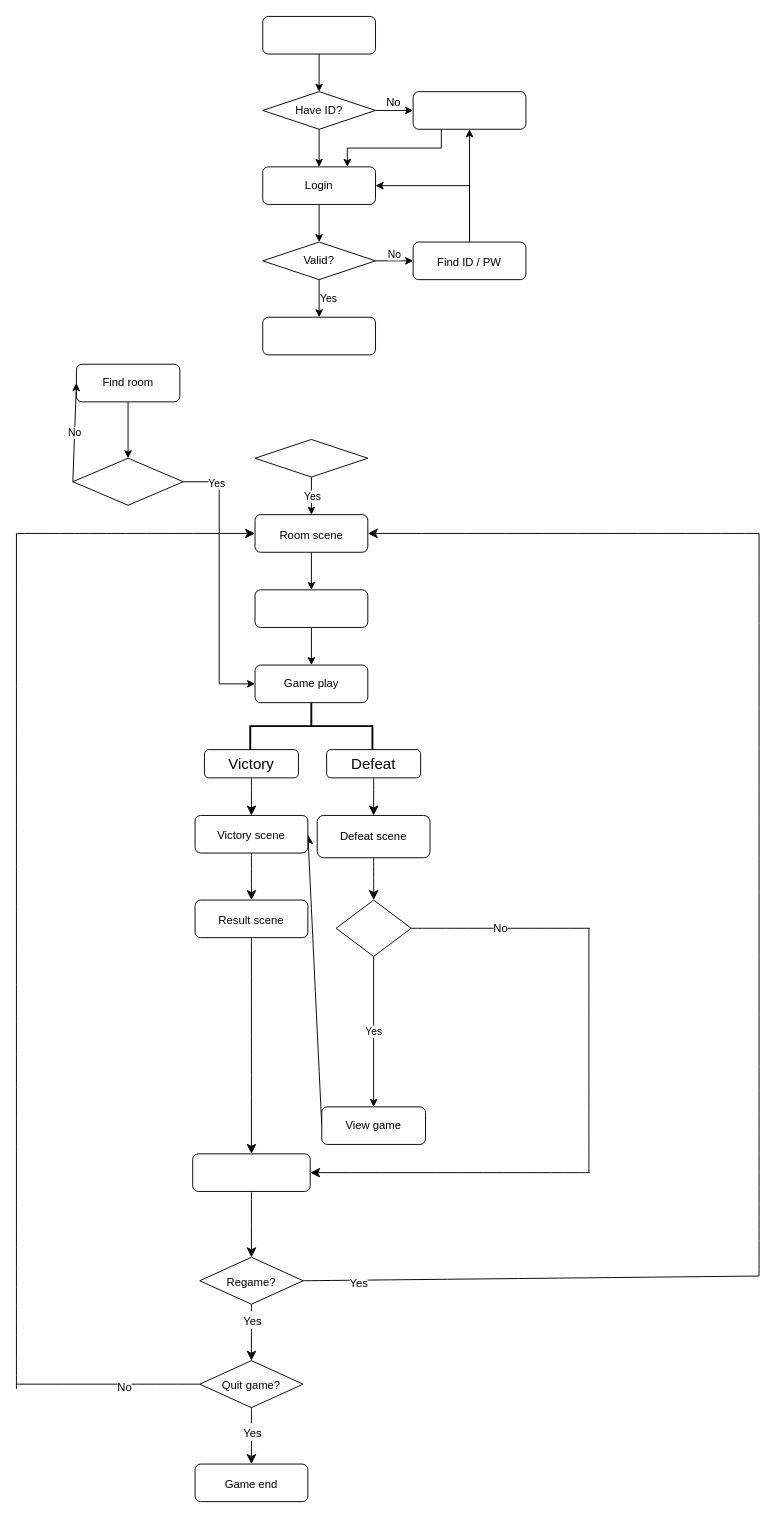
This 776x1518 diagram has some shape labels left out. Here are the shapes that lost their labels. From the top down, the centre of each, then its label:
pixel 319 35: Clue Starting Scene
pixel 469 110: Register
pixel 319 335: Home Scene
pixel 311 458: Make room?
pixel 127 481: Join room?
pixel 311 608: Invite player
pixel 373 927: Observe?
pixel 251 1172: Ending scene
